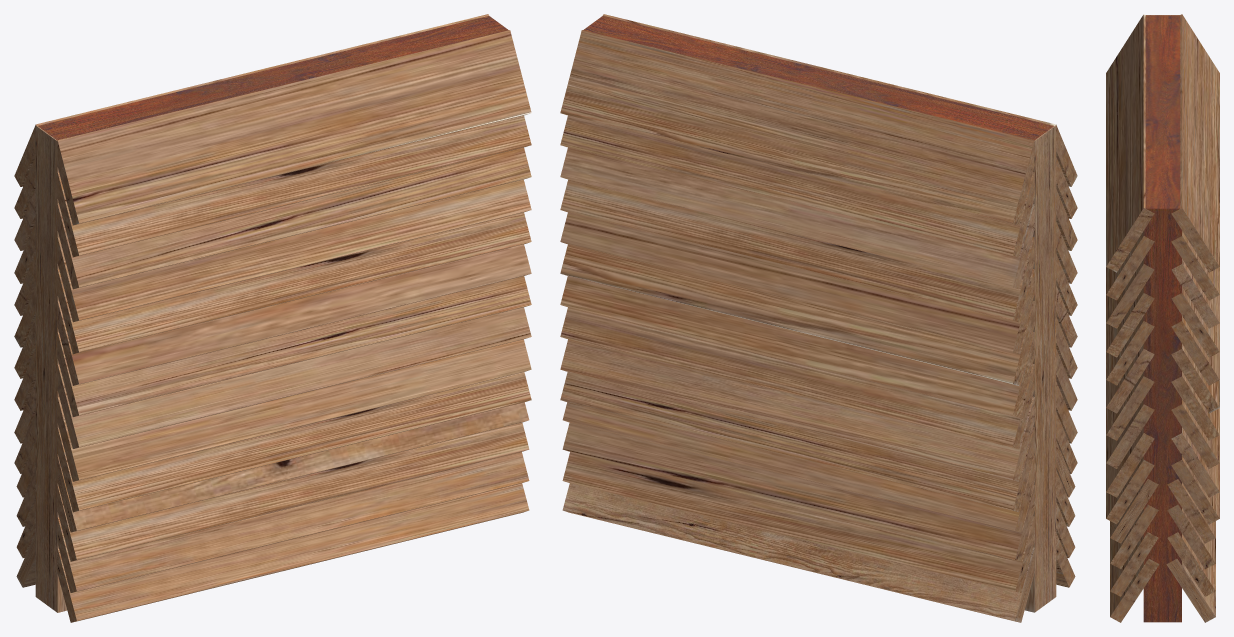
File: woodenwall.fbx
The picture shows the model from 3 angles, left to right: view 1: azimuth 30°, elevation 25°; view 2: azimuth 150°, elevation 25°; view 3: azimuth 270°, elevation 25°; orthographic projection. The views are drawn at different scales.
Parts seen in each view (by area): view 1: Cube.014, Cube.011, Cube.006, Cube.007, Cube.012, Cube.013, Cube.010, Cube.009, Cube.008, Cube.003, Cube.002, Cube.001 (+5 smaller); view 2: Cube.015, Cube.018, Cube.023, Cube.022, Cube.017, Cube.016, Cube.019, Cube.020, Cube.021, Cube.026, Cube.027, Cube.028 (+5 smaller); view 3: Cube.030, Cube.015, Cube.014, Cube.029, Cube.018, Cube.011, Cube.023, Cube.006, Cube.022, Cube.007, Cube.016, Cube.013 (+18 smaller).
Boxes of the visible parts, box(x1,y1,x2,y2) form: Cube.014: box(57, 30, 531, 225); Cube.011: box(57, 179, 531, 322); Cube.006: box(57, 339, 531, 481); Cube.007: box(57, 307, 531, 448); Cube.012: box(57, 147, 531, 289); Cube.013: box(57, 115, 531, 257); Cube.010: box(57, 212, 531, 354); Cube.009: box(57, 244, 531, 385); Cube.008: box(57, 276, 531, 417); Cube.003: box(57, 452, 529, 592); Cube.002: box(57, 372, 531, 512); Cube.001: box(57, 483, 529, 622); Cube.015: box(560, 30, 1034, 225); Cube.018: box(560, 179, 1034, 322); Cube.023: box(560, 339, 1034, 481); Cube.022: box(560, 307, 1034, 448); Cube.017: box(560, 147, 1034, 289); Cube.016: box(560, 115, 1034, 257); Cube.019: box(560, 212, 1034, 354); Cube.020: box(560, 244, 1034, 385); Cube.021: box(560, 276, 1034, 417); Cube.026: box(562, 452, 1034, 592); Cube.027: box(560, 372, 1034, 512); Cube.028: box(562, 483, 1034, 622); Cube.030: box(1143, 208, 1181, 622); Cube.015: box(1171, 14, 1219, 272); Cube.014: box(1106, 14, 1154, 272); Cube.029: box(1145, 15, 1180, 208); Cube.018: box(1171, 287, 1219, 357); Cube.011: box(1106, 287, 1154, 357); Cube.023: box(1171, 427, 1219, 497); Cube.006: box(1106, 428, 1154, 497); Cube.022: box(1171, 399, 1219, 468); Cube.007: box(1106, 400, 1154, 468); Cube.016: box(1171, 231, 1219, 300); Cube.013: box(1106, 231, 1154, 300).
Bounding box in the file's own units: 397 × 397 × 98.56.
